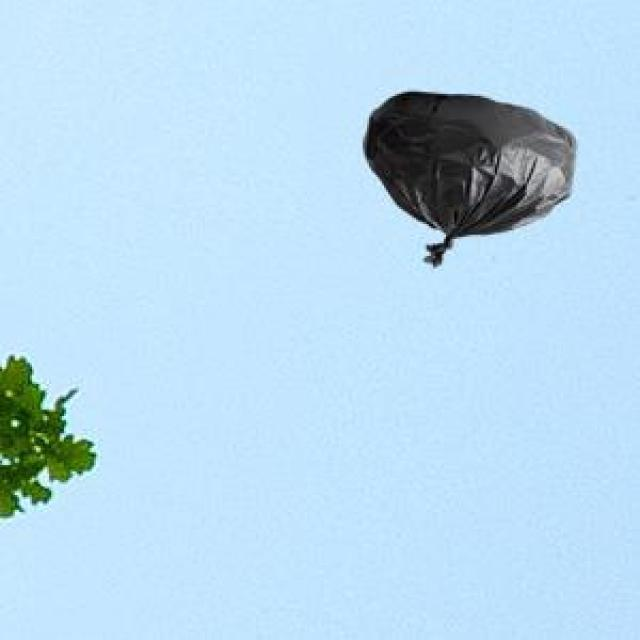waste: (364, 91, 574, 266)
